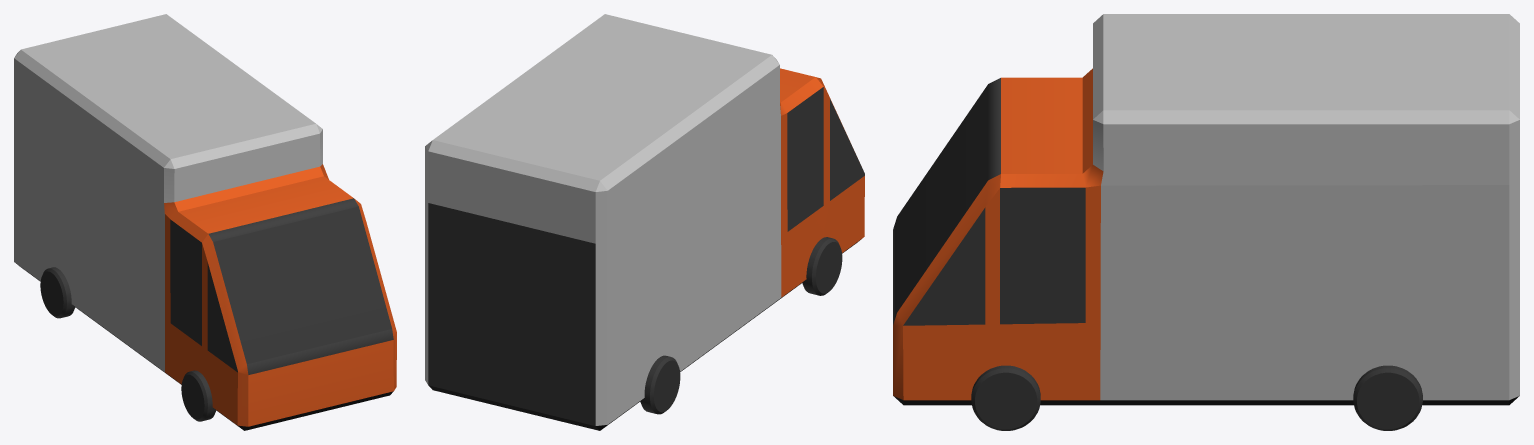
Rendered from dfadsi.fbx.
3 views of the same model, side by side, from view 1: azimuth 30°, elevation 25°; view 2: azimuth 150°, elevation 25°; view 3: azimuth 270°, elevation 25° (orthographic). The views are drawn at different scales.
Visible parts, largest first — view 1: body, weel_2, weel_4; view 2: body, weel_2, weel_4; view 3: body, weel_3, weel_1.
Part boxes in pixels (<box>): body: <box>14,14,396,430</box>; weel_2: <box>181,370,216,421</box>; weel_4: <box>40,267,75,318</box>; body: <box>425,14,864,430</box>; weel_2: <box>802,237,842,295</box>; weel_4: <box>640,355,680,414</box>; body: <box>893,14,1519,405</box>; weel_3: <box>1353,365,1422,430</box>; weel_1: <box>971,365,1040,430</box>.
Size of the model in its own units: 51.85 by 66.63 by 121.
